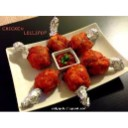chicken_lollipop: (18, 68, 61, 106), (80, 48, 127, 74), (64, 67, 93, 109), (14, 38, 51, 69), (69, 23, 101, 52), (45, 16, 70, 47)
